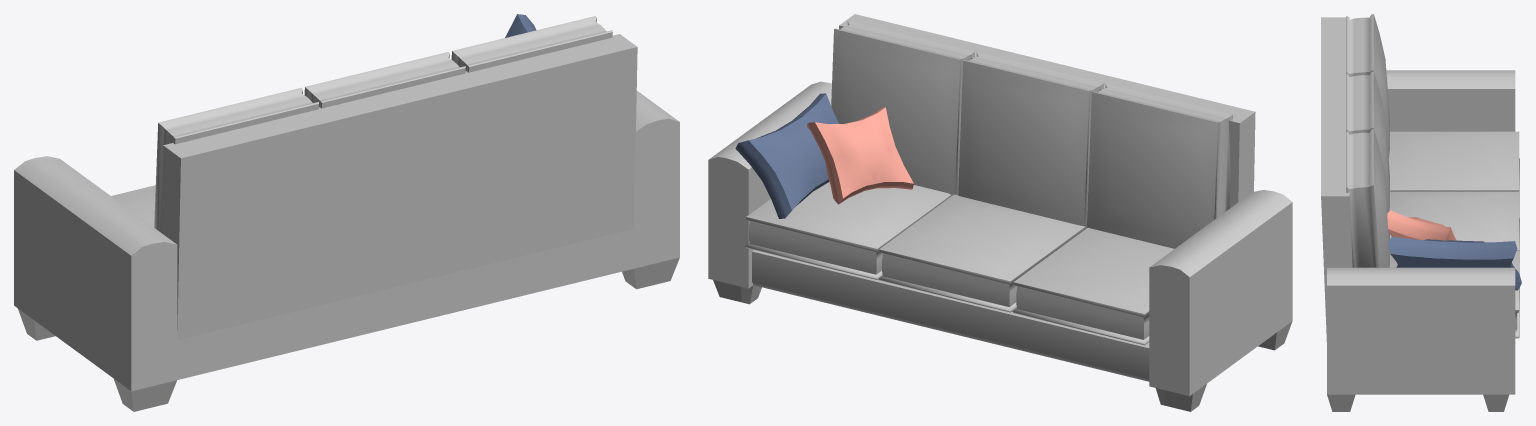
File: big_sofa_03.FBX
The picture shows the model from 3 angles, left to right: view 1: azimuth 30°, elevation 25°; view 2: azimuth 150°, elevation 25°; view 3: azimuth 270°, elevation 25°; orthographic projection. The views are drawn at different scales.
Visible parts, largest first — view 1: sofa; view 2: sofa; view 3: sofa.
Boxes of the visible parts, x1,y1,x2,y2 form: sofa: [14, 14, 679, 411]; sofa: [708, 14, 1292, 411]; sofa: [1321, 14, 1521, 411].
Size of the model in its own units: 305 by 137 by 121.
